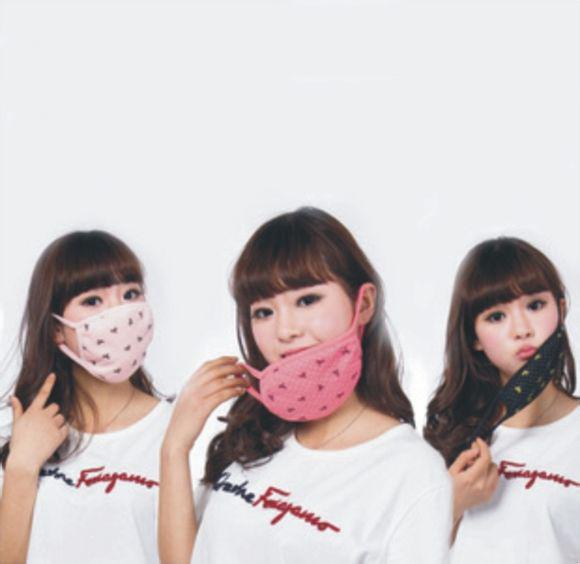OK: (59, 277, 159, 377)
WRONG: (251, 284, 351, 385), (479, 294, 564, 382)
